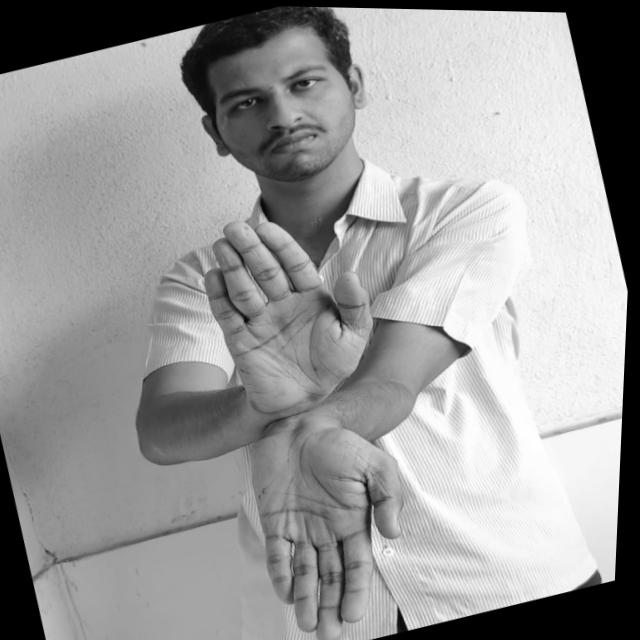Morning: (172, 188, 462, 640)
